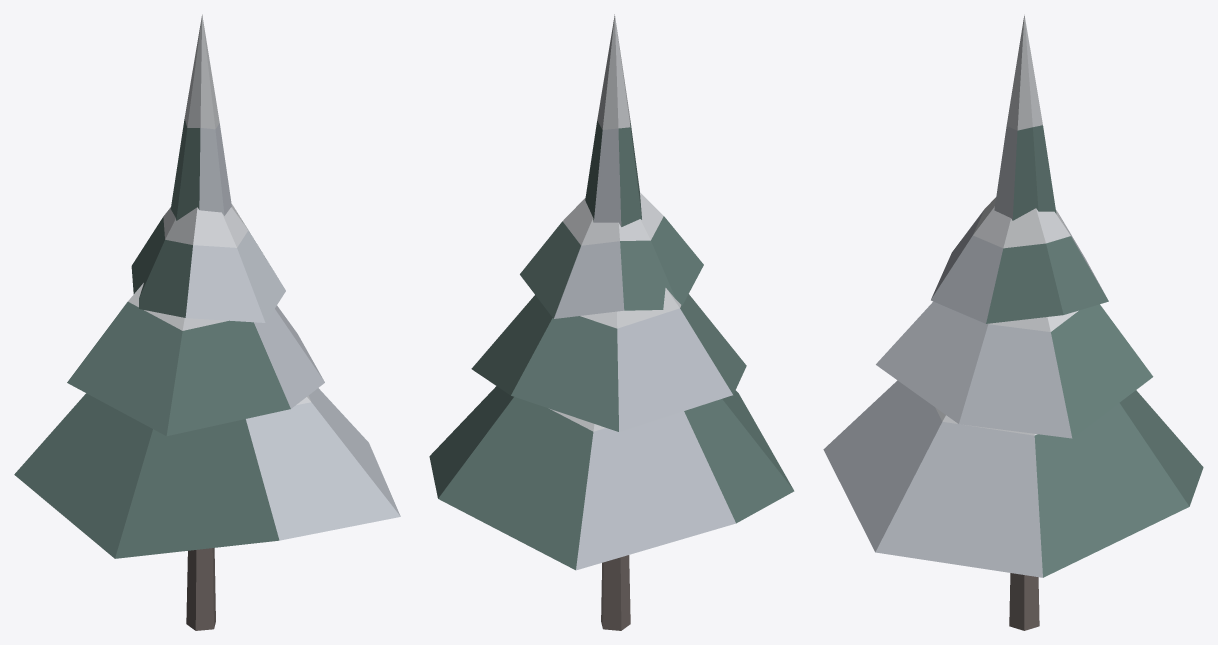
The model's file is kuusi_1.glb.
The picture shows the model from 3 angles, left to right: view 1: azimuth 30°, elevation 25°; view 2: azimuth 150°, elevation 25°; view 3: azimuth 270°, elevation 25°; orthographic projection.
Parts seen in each view (by area): view 1: kuusi_1; view 2: kuusi_1; view 3: kuusi_1.
Boxes of the visible parts, x1=… form: kuusi_1: x1=14, y1=14, x2=400, y2=630; kuusi_1: x1=429, y1=14, x2=794, y2=630; kuusi_1: x1=823, y1=14, x2=1203, y2=630.
Bounding box in the file's own units: 3.4 × 6 × 3.39.
